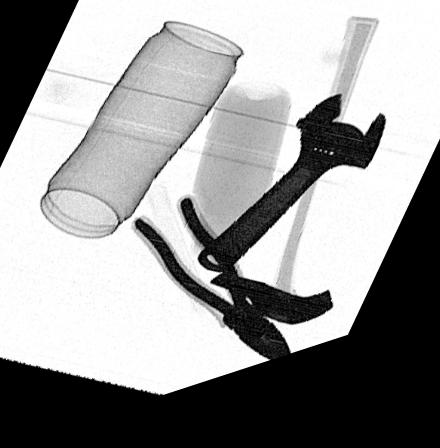Hammer: (209, 39, 380, 345)
Pliers: (130, 205, 287, 377)
Wrench: (195, 111, 390, 285)
